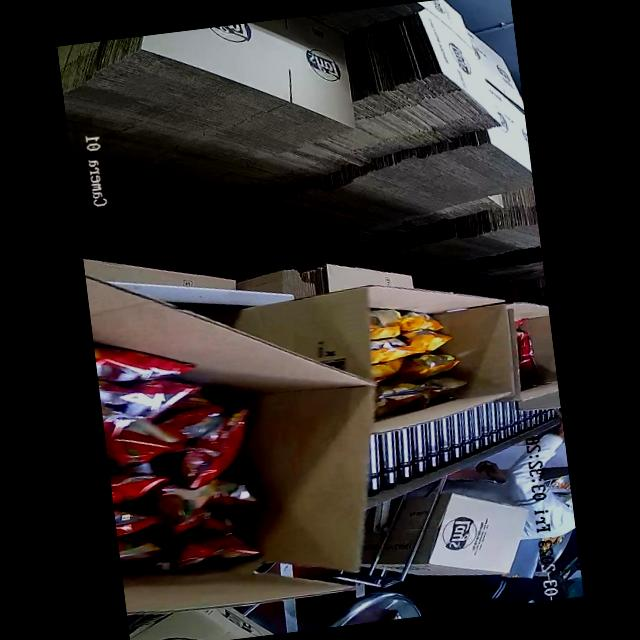cheese: (364, 302, 484, 408)
masala: (95, 342, 246, 588)
